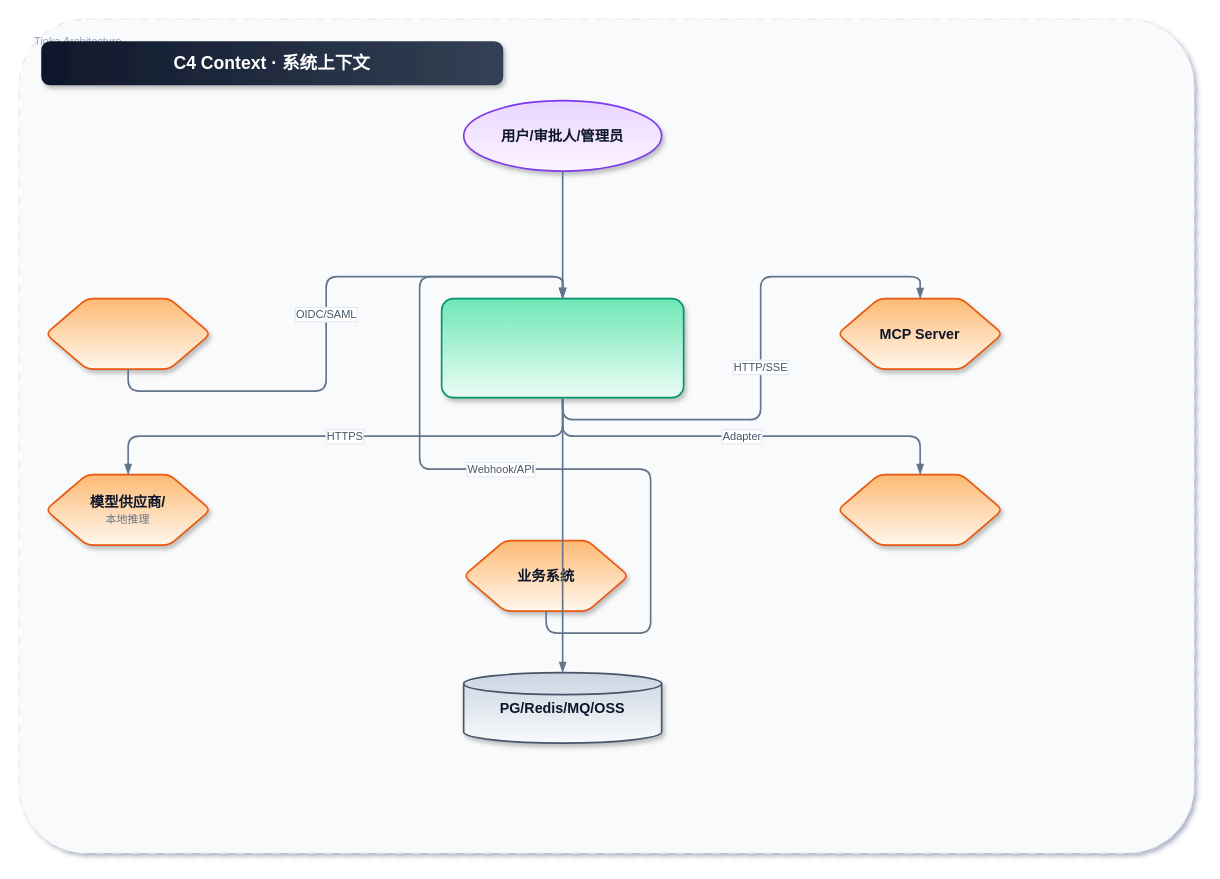
Some shapes in this 1220 by 879 pixel diagram are drawn without their labels. Each missing label, with the centre of its shape:
"Tioka 平台" belongs at pixel 563 349.
"客户 IdP" belongs at pixel 129 335.
"飞书/钉钉/ 企微/自有 IM" belongs at pixel 921 511.
